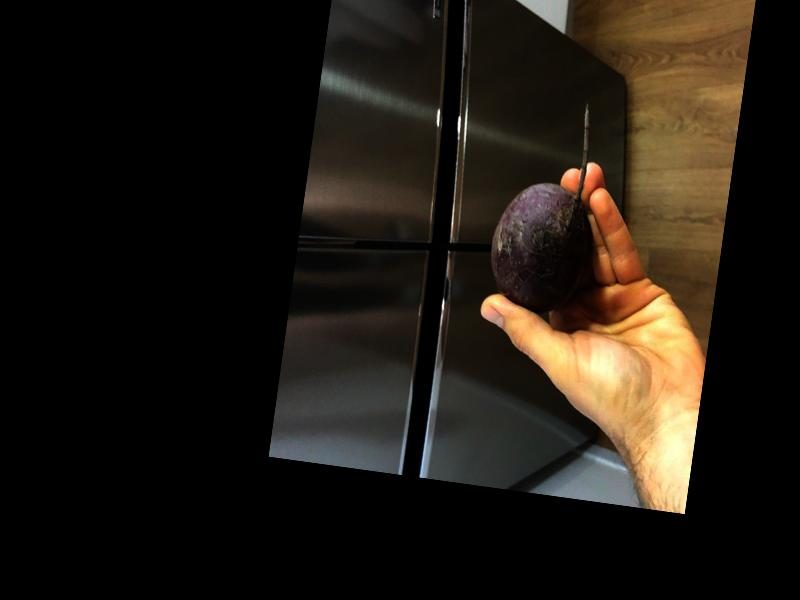Beet: (482, 92, 609, 317)
